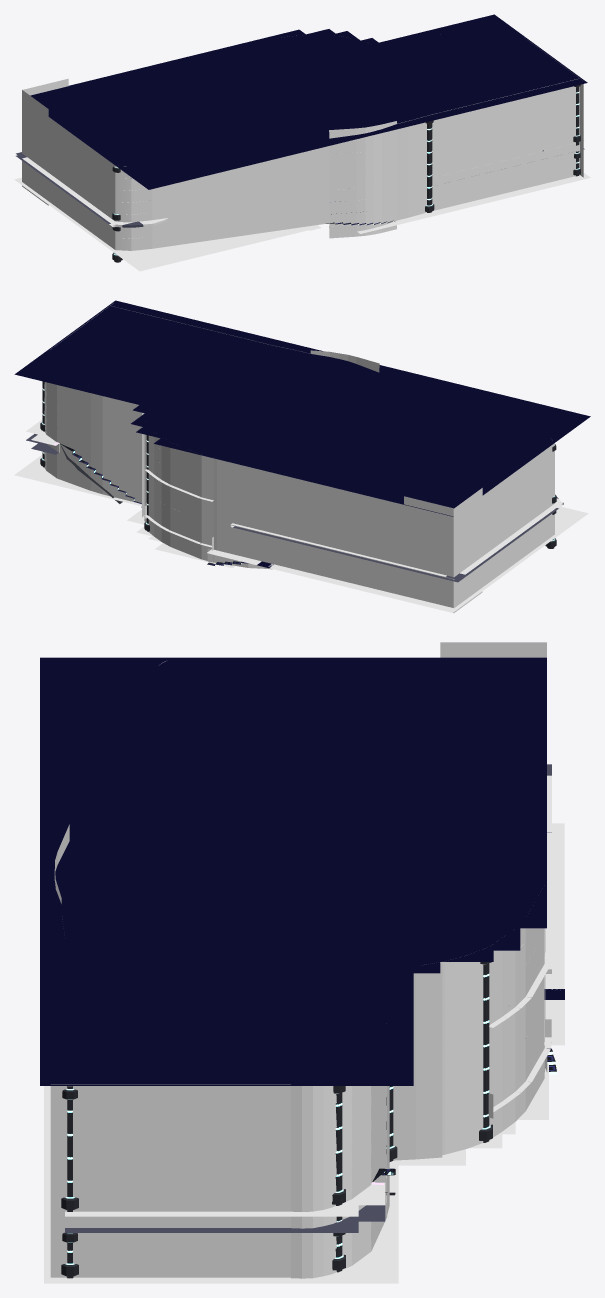
File: Nivel 1-Scenario.fbx
3 renders of one model, top to bottom at view 1: azimuth 30°, elevation 25°; view 2: azimuth 150°, elevation 25°; view 3: azimuth 270°, elevation 25°, orthographic. The views are drawn at different scales.
Visible parts, largest first — view 1: M_P_4x4_1__550_, M_P_4x4_1__911_, PC_02__2_, PC_02__3_, PC_02__5_, PC_02__4_, PC_02__8_, PC_02__1_, PC_02__6_, PC_02_1, PC_02__7_, AO_02__3_ (+3 smaller); view 2: M_P_4x4_1__550_, M_P_4x4_1__911_, AE_01__5_, AE_01__6_, AE_01__4_, AE_01__1_, AE_01__7_, escaleraEste, PC_02__7_, AE_01__2_, AE_01__3_; view 3: M_P_4x4_1__911_, M_P_4x4_1__550_, AE_01__5_, AE_01__6_, AE_01__4_, AE_01__1_, AE_01__7_, AE_01__2_, AE_01__3_, AE_01__8_.
Boxes of the visible parts, left/top/right/bottom form: M_P_4x4_1__550_: left=14, top=177, right=308, bottom=271; M_P_4x4_1__911_: left=348, top=152, right=590, bottom=233; PC_02__2_: left=329, top=193, right=396, bottom=214; PC_02__3_: left=329, top=181, right=396, bottom=201; PC_02__5_: left=329, top=145, right=396, bottom=166; PC_02__4_: left=329, top=169, right=396, bottom=189; PC_02__8_: left=329, top=157, right=396, bottom=177; PC_02__1_: left=329, top=205, right=396, bottom=226; PC_02__6_: left=329, top=133, right=396, bottom=154; PC_02_1: left=329, top=217, right=396, bottom=238; PC_02__7_: left=329, top=121, right=396, bottom=140; AO_02__3_: left=115, top=200, right=152, bottom=214; M_P_4x4_1__550_: left=268, top=506, right=588, bottom=612; M_P_4x4_1__911_: left=14, top=455, right=141, bottom=506; AE_01__5_: left=42, top=399, right=90, bottom=438; AE_01__6_: left=42, top=386, right=90, bottom=425; AE_01__4_: left=42, top=413, right=90, bottom=451; AE_01__1_: left=42, top=452, right=90, bottom=490; AE_01__7_: left=42, top=381, right=90, bottom=412; escaleraEste: left=60, top=443, right=141, bottom=507; PC_02__7_: left=310, top=350, right=379, bottom=372; AE_01__2_: left=44, top=452, right=90, bottom=477; AE_01__3_: left=44, top=430, right=90, bottom=464; M_P_4x4_1__911_: left=44, top=1086, right=398, bottom=1283; M_P_4x4_1__550_: left=544, top=823, right=564, bottom=989; AE_01__5_: left=291, top=1098, right=386, bottom=1181; AE_01__6_: left=291, top=1086, right=387, bottom=1157; AE_01__4_: left=291, top=1122, right=387, bottom=1206; AE_01__1_: left=291, top=1194, right=387, bottom=1278; AE_01__7_: left=291, top=1086, right=380, bottom=1133; AE_01__2_: left=291, top=1175, right=386, bottom=1254; AE_01__3_: left=291, top=1146, right=387, bottom=1228; AE_01__8_: left=291, top=1086, right=365, bottom=1109.
Size of the model in its own units: 15525 by 3761 by 7872.
Materials: 22 (7 with a texture image).
